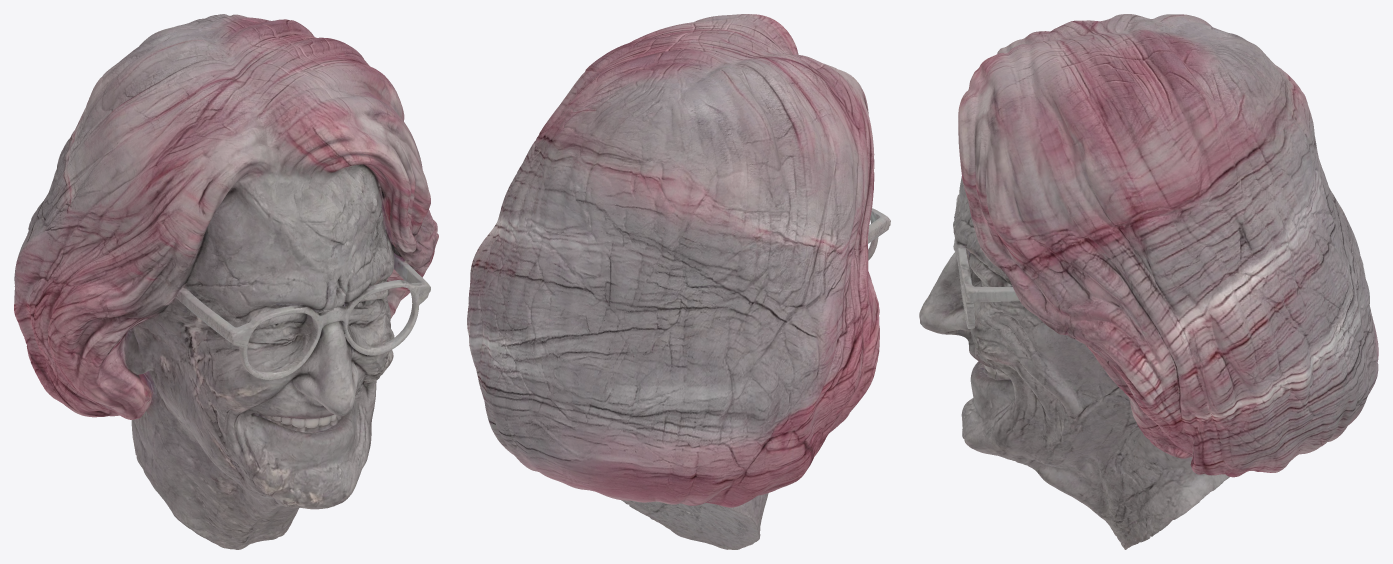
Rendered from Grady.glb.
3 views of the same model, side by side, from view 1: azimuth 30°, elevation 25°; view 2: azimuth 150°, elevation 25°; view 3: azimuth 270°, elevation 25° (orthographic).
Bounding box in the file's own units: 1.46 × 1.9 × 1.56.
1 material, 1 textured.
